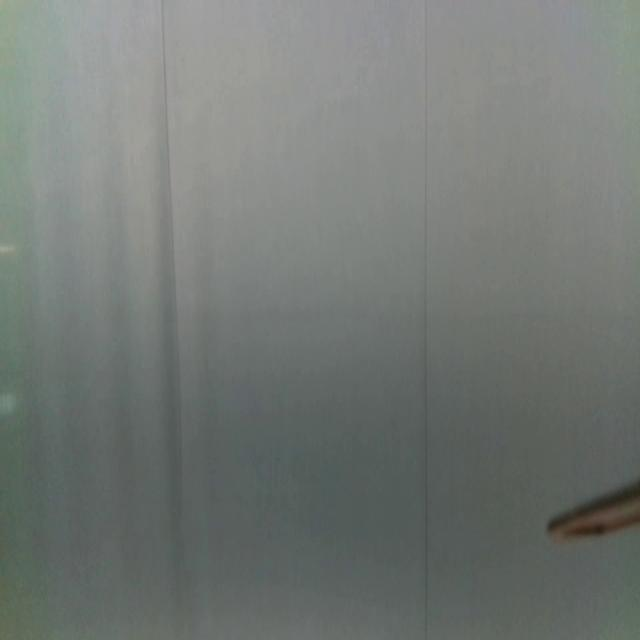crease: (160, 0, 184, 513), (421, 2, 431, 640)
